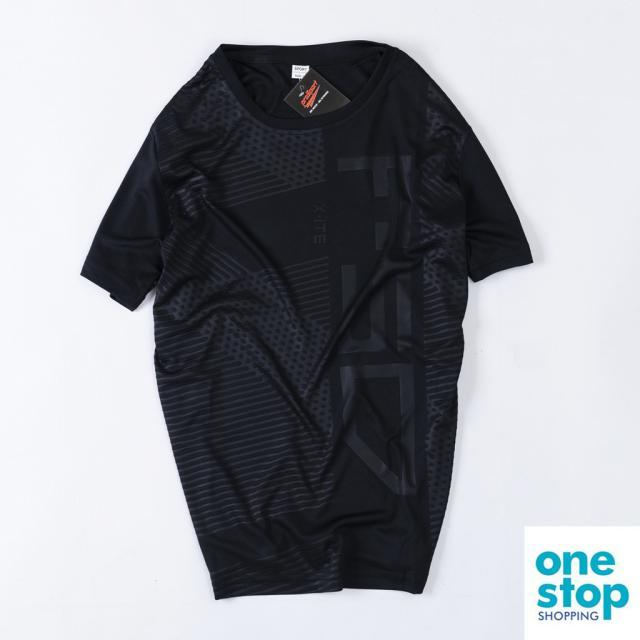Shirt: (80, 41, 532, 596)
